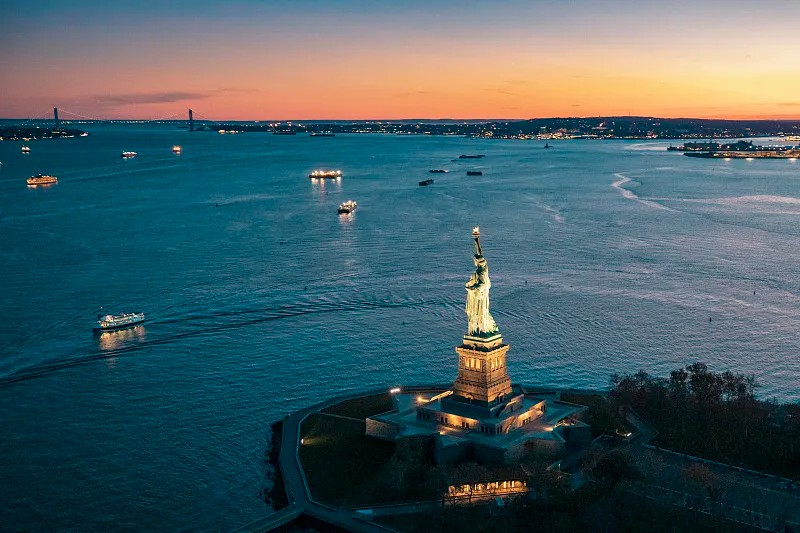SL: (454, 227, 513, 406)
